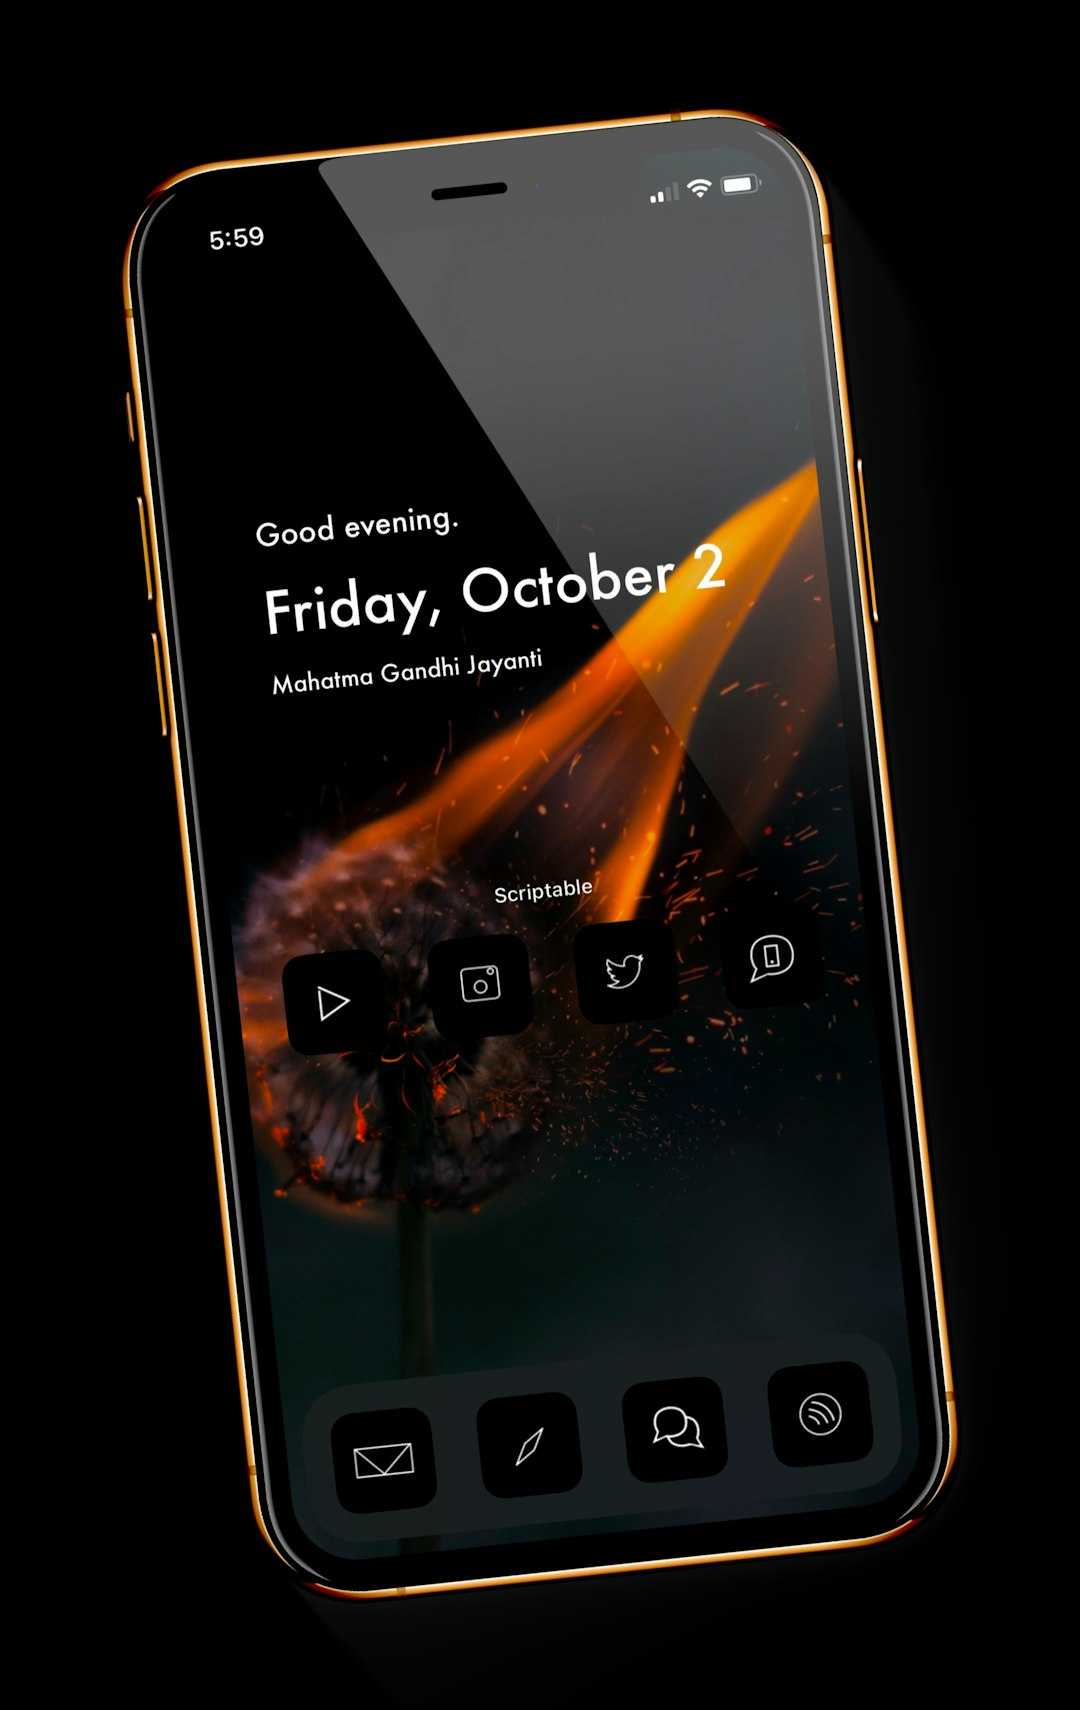phone: (119, 99, 957, 1599)
